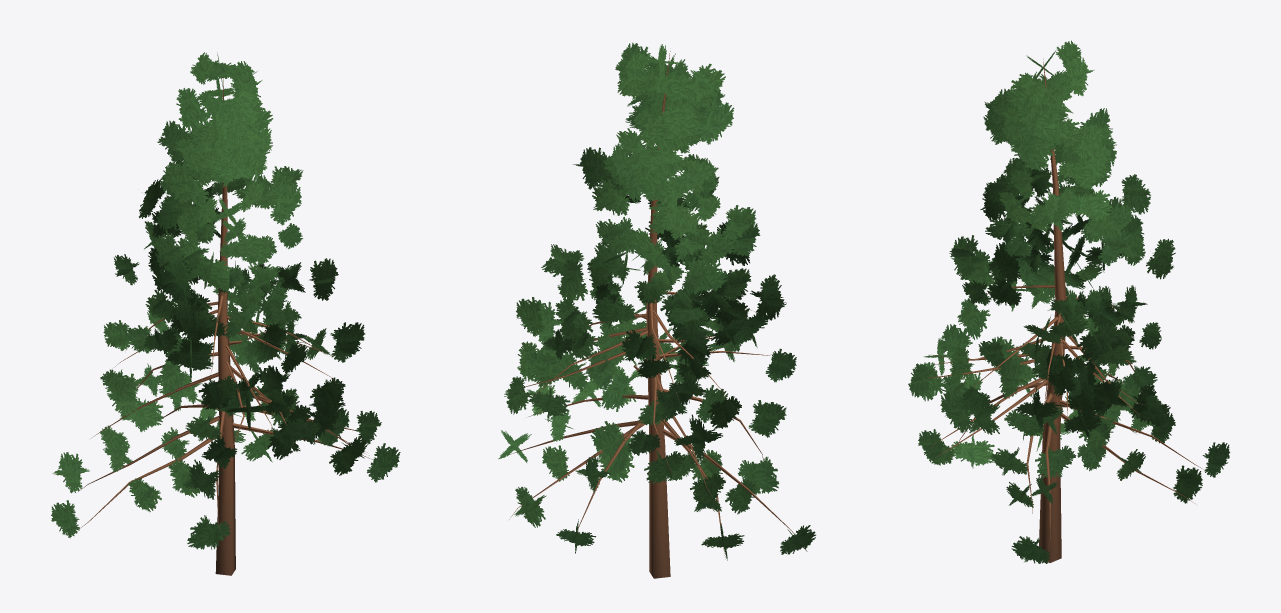
The model's file is pino-bajo.glb.
3 views of the same model, side by side, from view 1: azimuth 30°, elevation 25°; view 2: azimuth 150°, elevation 25°; view 3: azimuth 270°, elevation 25° (orthographic). The views are drawn at different scales.
Visible parts, largest first — view 1: pino; view 2: pino; view 3: pino.
Part boxes in pixels (box(x1,y1,x2,y2)): pino: box(51, 52, 400, 575); pino: box(498, 42, 815, 578); pino: box(908, 40, 1230, 563).
Bounding box in the file's own units: 12.09 × 16.3 × 10.73.
Materials: 2 (1 with a texture image).
